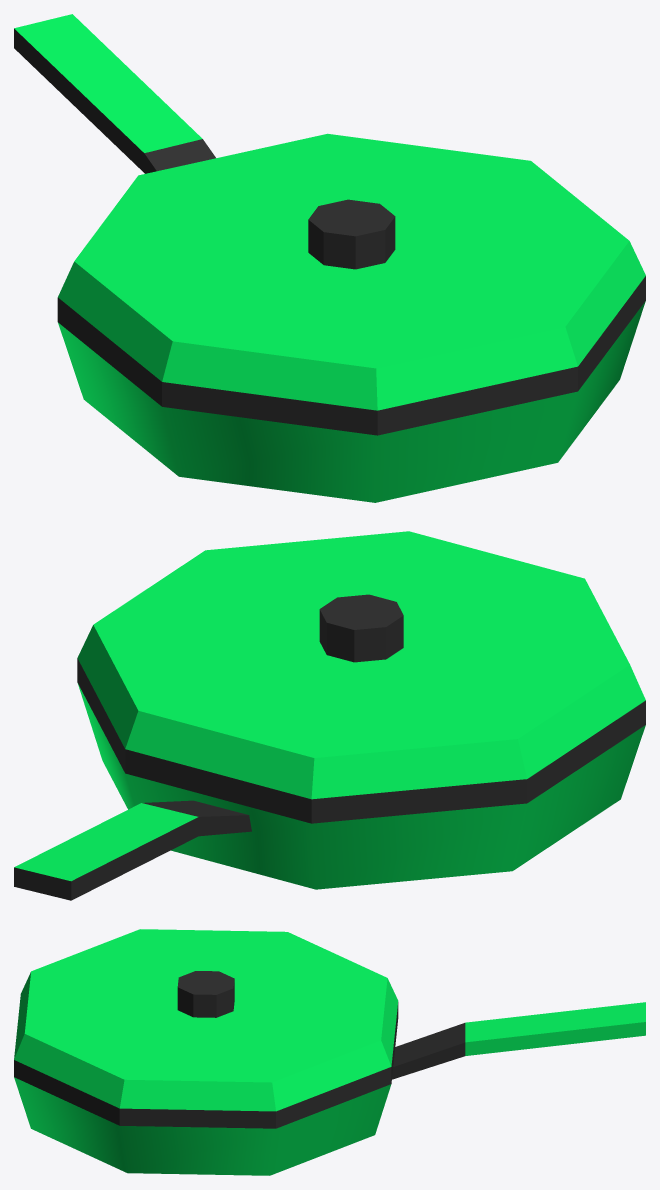
The model's file is Frying pan3_Green.fbx.
The picture shows the model from 3 angles, top to bottom: view 1: azimuth 30°, elevation 25°; view 2: azimuth 150°, elevation 25°; view 3: azimuth 270°, elevation 25°; orthographic projection. The views are drawn at different scales.
Visible parts, largest first — view 1: Frying pan3_Door, Frying pan3_Green; view 2: Frying pan3_Door, Frying pan3_Green; view 3: Frying pan3_Door, Frying pan3_Green.
Part boxes in pixels (x1,y1,x2,y2): Frying pan3_Door: [57, 133, 645, 435]; Frying pan3_Green: [14, 14, 645, 502]; Frying pan3_Door: [77, 531, 645, 823]; Frying pan3_Green: [14, 683, 645, 900]; Frying pan3_Door: [14, 929, 398, 1128]; Frying pan3_Green: [14, 1002, 645, 1175].
Size of the model in its own units: 30.29 by 10.34 by 49.8.
